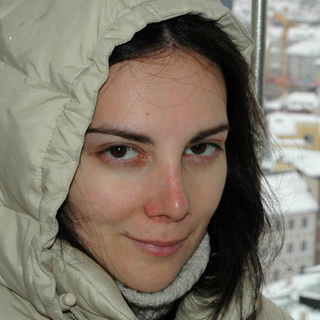eye: (86, 135, 151, 169), (178, 138, 230, 167)
